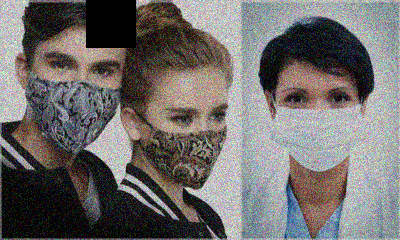with_mask: (27, 46, 123, 154), (275, 82, 362, 174), (145, 99, 229, 190)
